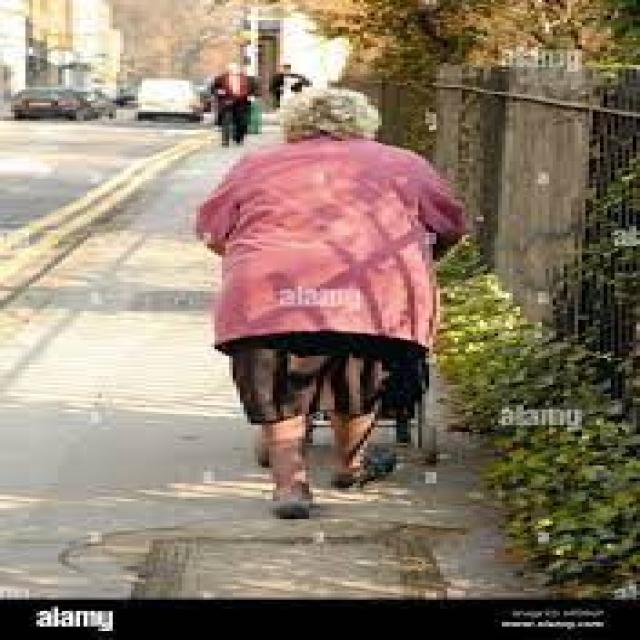idoso em pe: (198, 93, 461, 502)
